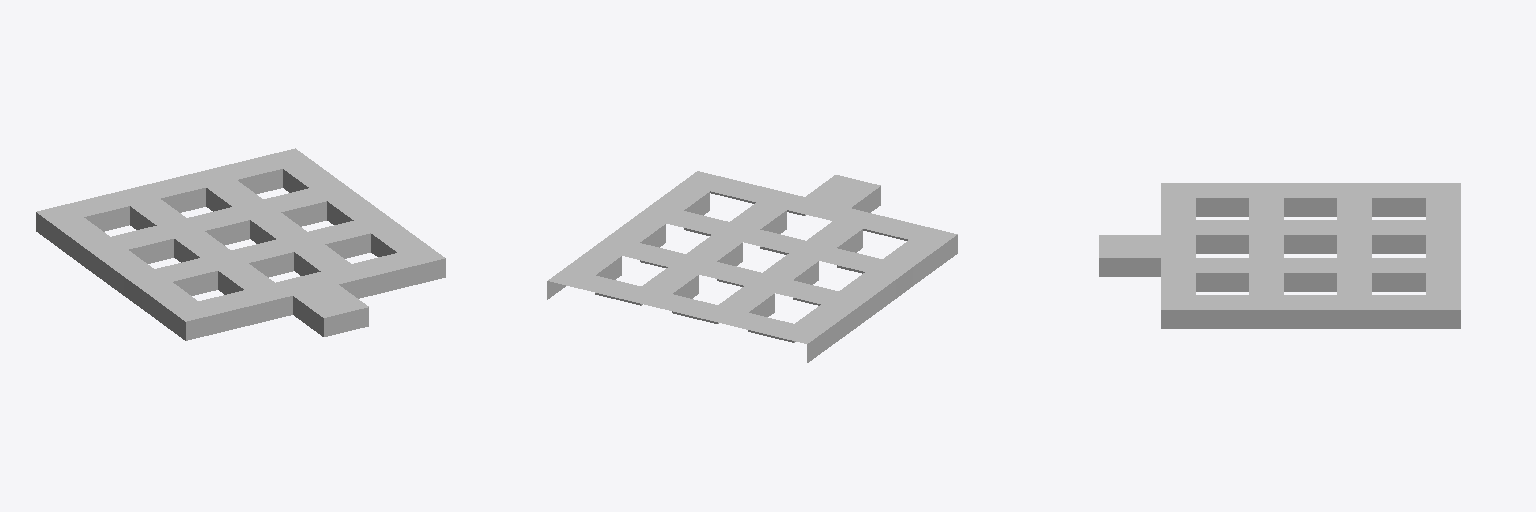
File: level.obj
The picture shows the model from 3 angles: view 1: azimuth 30°, elevation 25°; view 2: azimuth 150°, elevation 25°; view 3: azimuth 270°, elevation 25°; orthographic projection.
Visible parts, largest first — view 1: Plane; view 2: Plane; view 3: Plane.
Boxes of the visible parts, x1,y1,x2,y2 form: Plane: [36, 148, 445, 340]; Plane: [547, 171, 957, 362]; Plane: [1099, 183, 1460, 328].
Size of the model in its own units: 230 by 16.27 by 278.